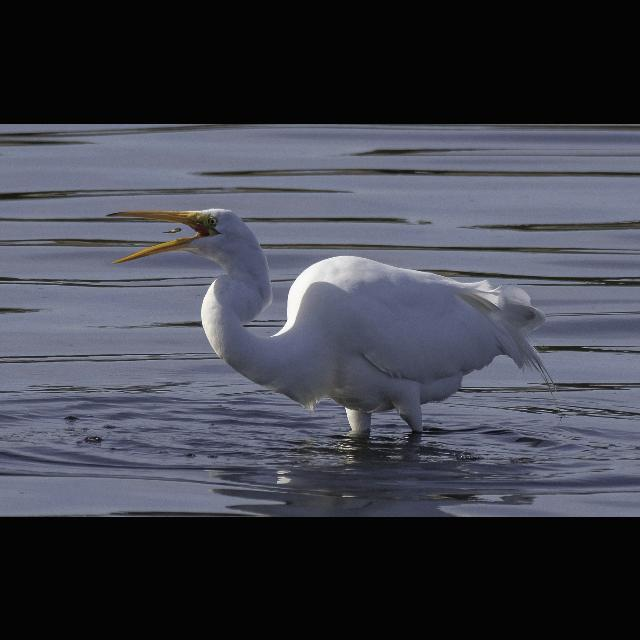egret: (107, 202, 548, 424)
